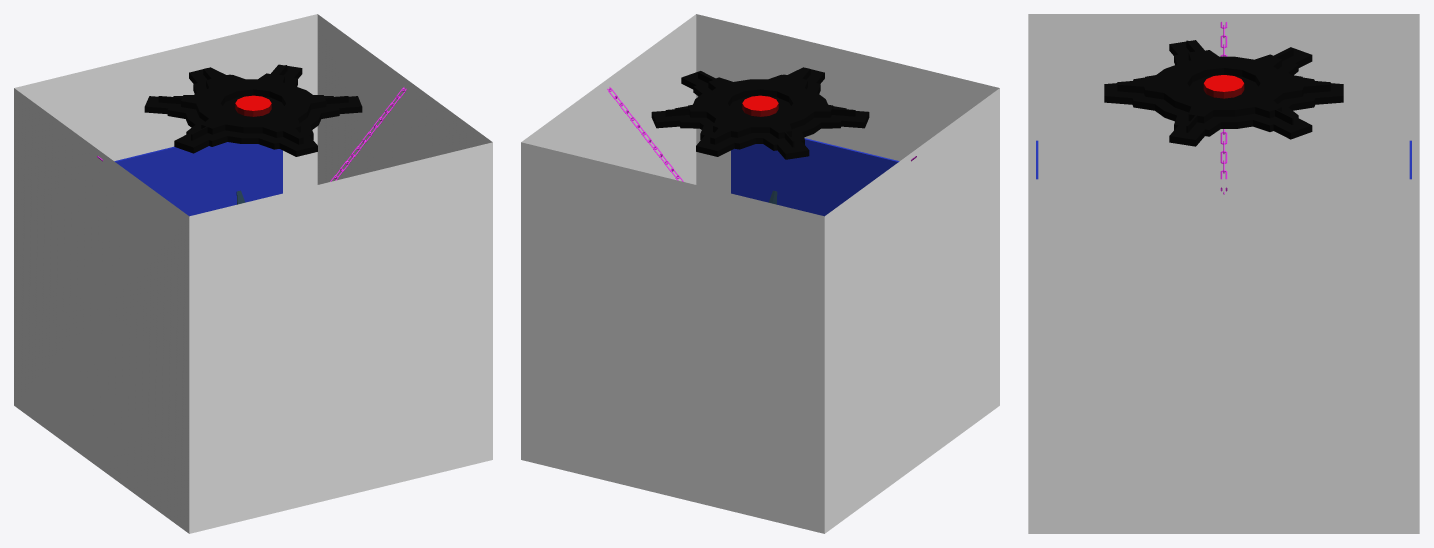
File: DroneRoom.fbx
3 renders of one model, left to right at view 1: azimuth 30°, elevation 25°; view 2: azimuth 150°, elevation 25°; view 3: azimuth 270°, elevation 25°, orthographic. The views are drawn at different scales.
Parts seen in each view (by area): view 1: DroneRoom; view 2: DroneRoom; view 3: DroneRoom.
Boxes of the visible parts, box(x1,y1,x2,y2) form: DroneRoom: box(14, 14, 492, 533); DroneRoom: box(521, 14, 999, 533); DroneRoom: box(1028, 14, 1419, 533).
Bounding box in the file's own units: 202 × 205 × 197.
